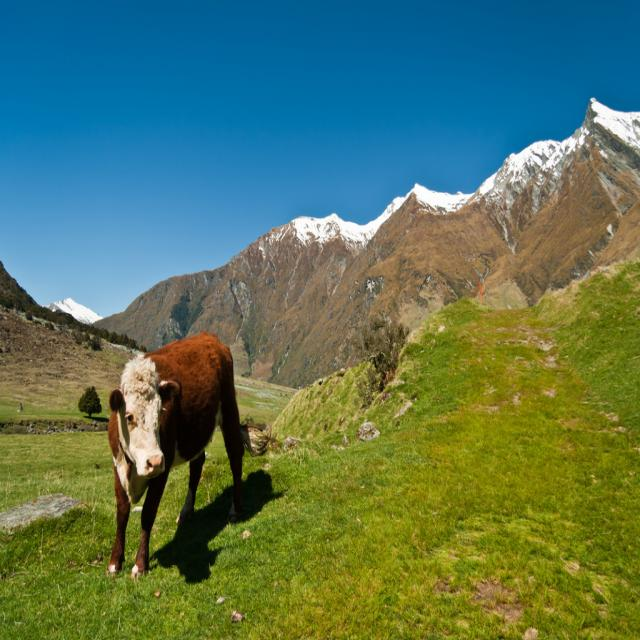Cattle: (91, 328, 236, 579)
